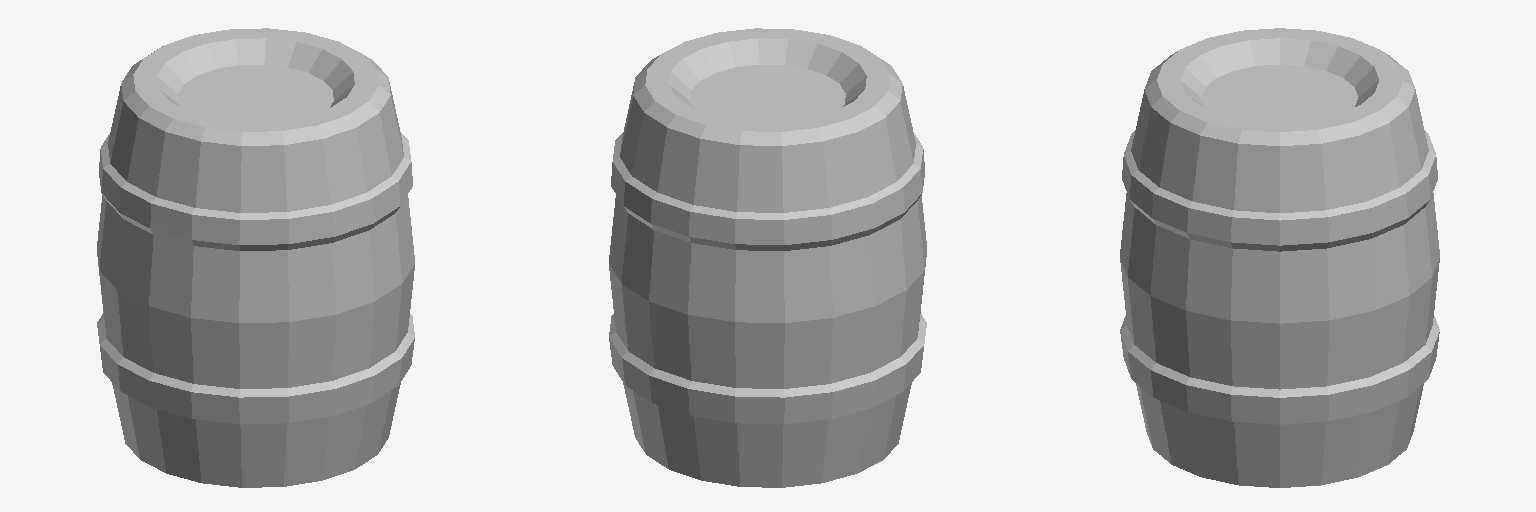
Rendered from Barrel.obj.
The picture shows the model from 3 angles: view 1: azimuth 30°, elevation 25°; view 2: azimuth 150°, elevation 25°; view 3: azimuth 270°, elevation 25°; orthographic projection.
Visible parts, largest first — view 1: Barrel; view 2: Barrel; view 3: Barrel.
Boxes of the visible parts, box(x1,y1,x2,y2) form: Barrel: box(97, 28, 414, 487); Barrel: box(609, 28, 926, 487); Barrel: box(1120, 28, 1439, 487).
Size of the model in its own units: 0.4208 by 0.5094 by 0.4208.